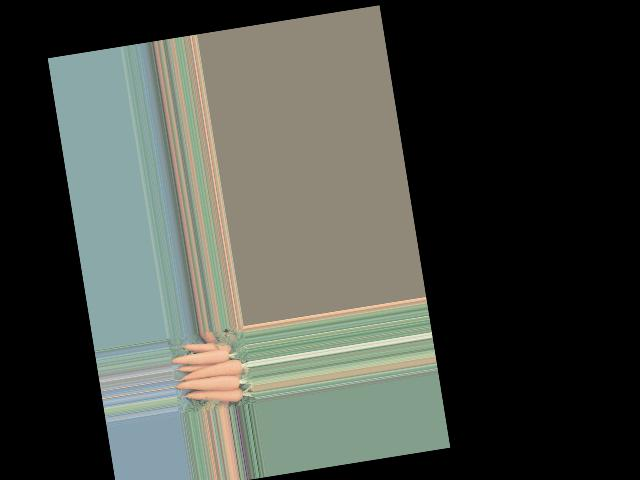carrot: (172, 343, 233, 371)
